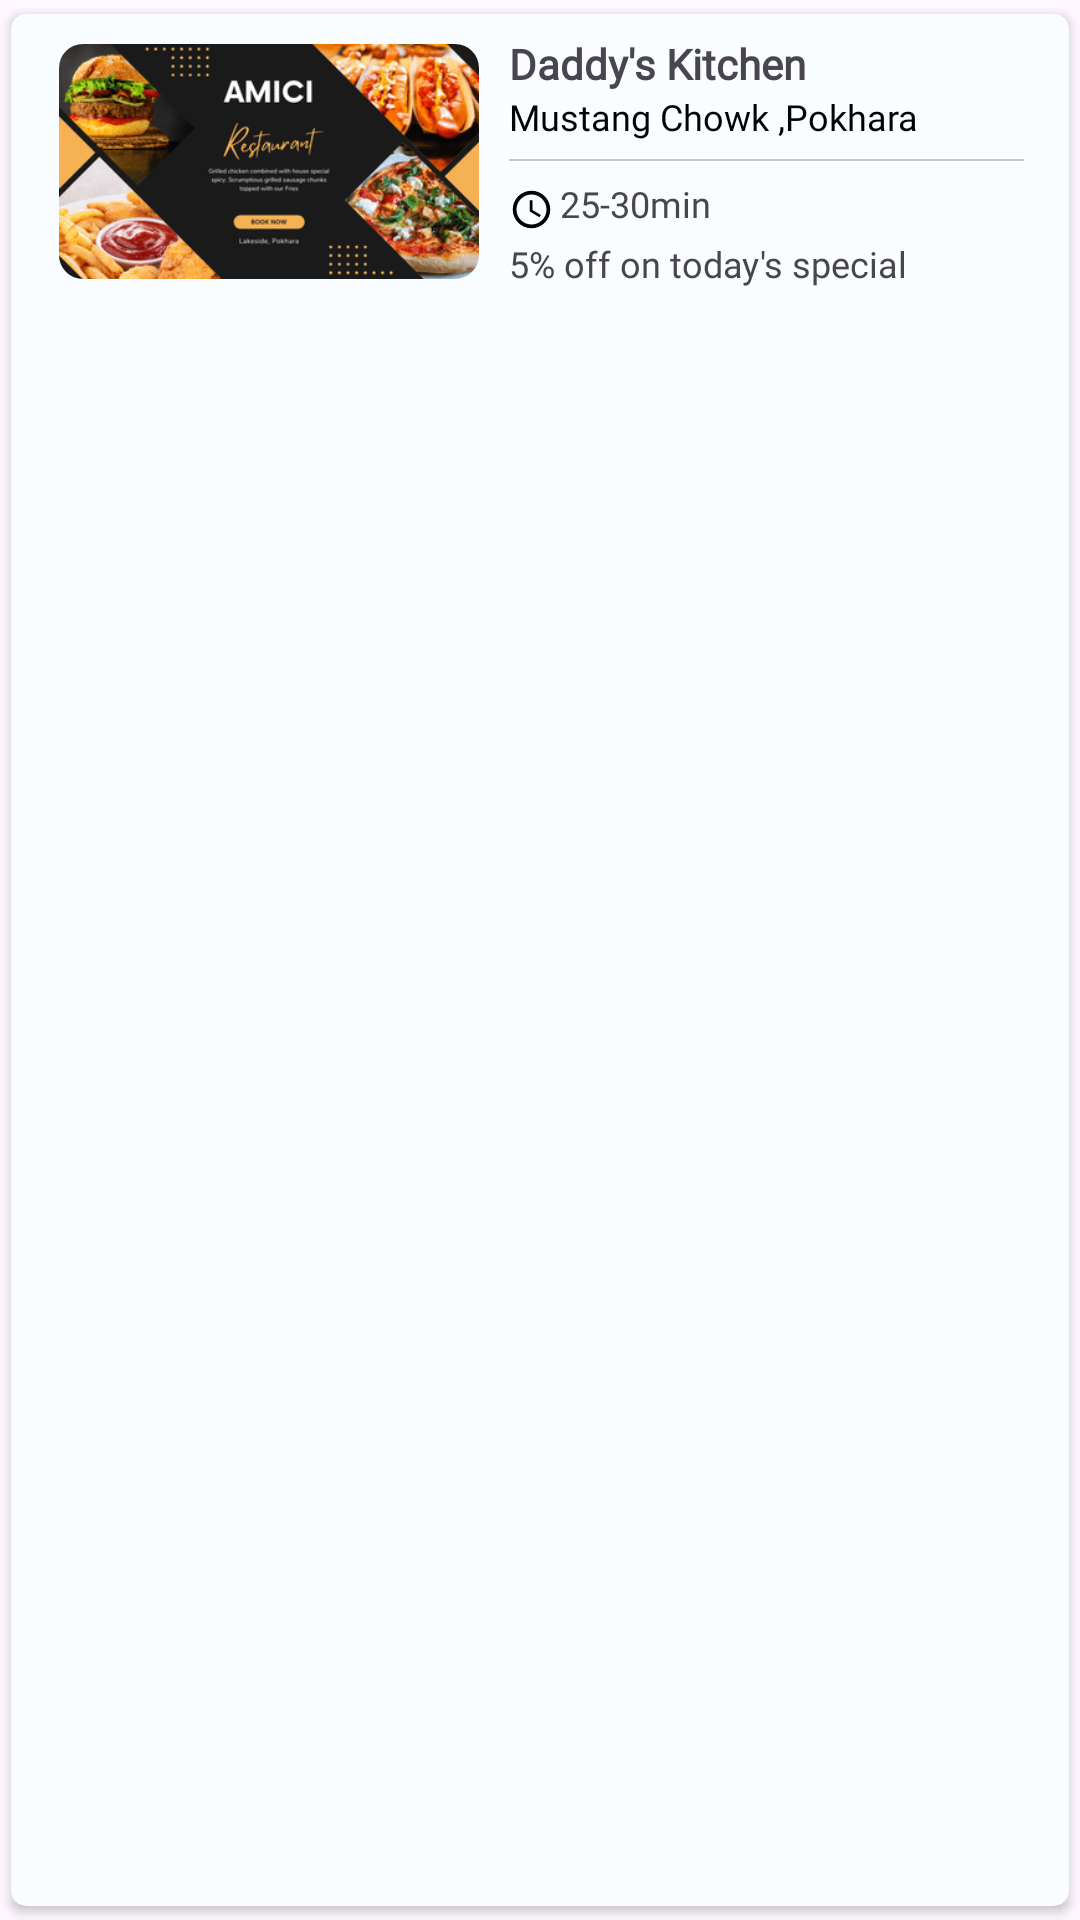

Icons on this 1080*1920 Android screen, each with its box as detection(x1, y1, x2, y2):
order time: detection(512, 190, 551, 229)
